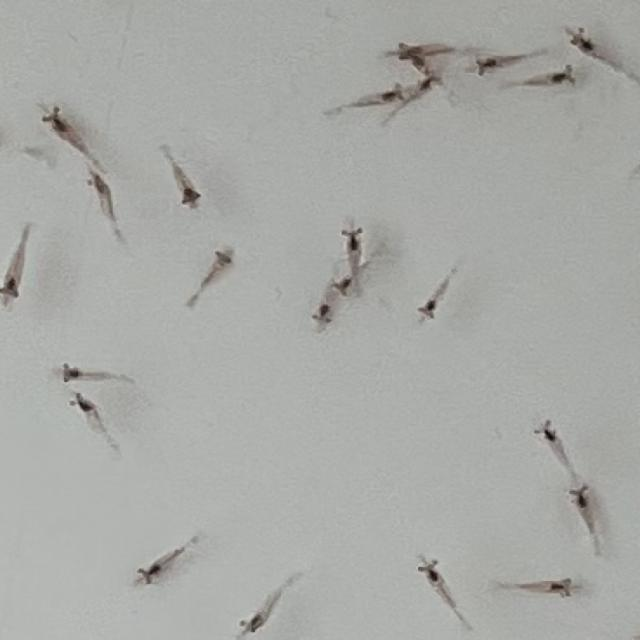shrimp-seed: (40, 105, 74, 135), (0, 272, 26, 304), (546, 61, 576, 88), (339, 224, 367, 252), (416, 557, 446, 583), (546, 574, 578, 598), (58, 359, 86, 386), (236, 610, 266, 635), (178, 182, 204, 210), (208, 247, 236, 273), (566, 26, 594, 52), (312, 300, 336, 330), (567, 481, 593, 508), (328, 271, 354, 297), (376, 79, 404, 103), (134, 560, 162, 584), (532, 419, 560, 442), (68, 389, 94, 413), (86, 171, 110, 196), (410, 74, 436, 97), (473, 55, 498, 77), (416, 297, 439, 320), (396, 41, 422, 60), (406, 50, 429, 70)
